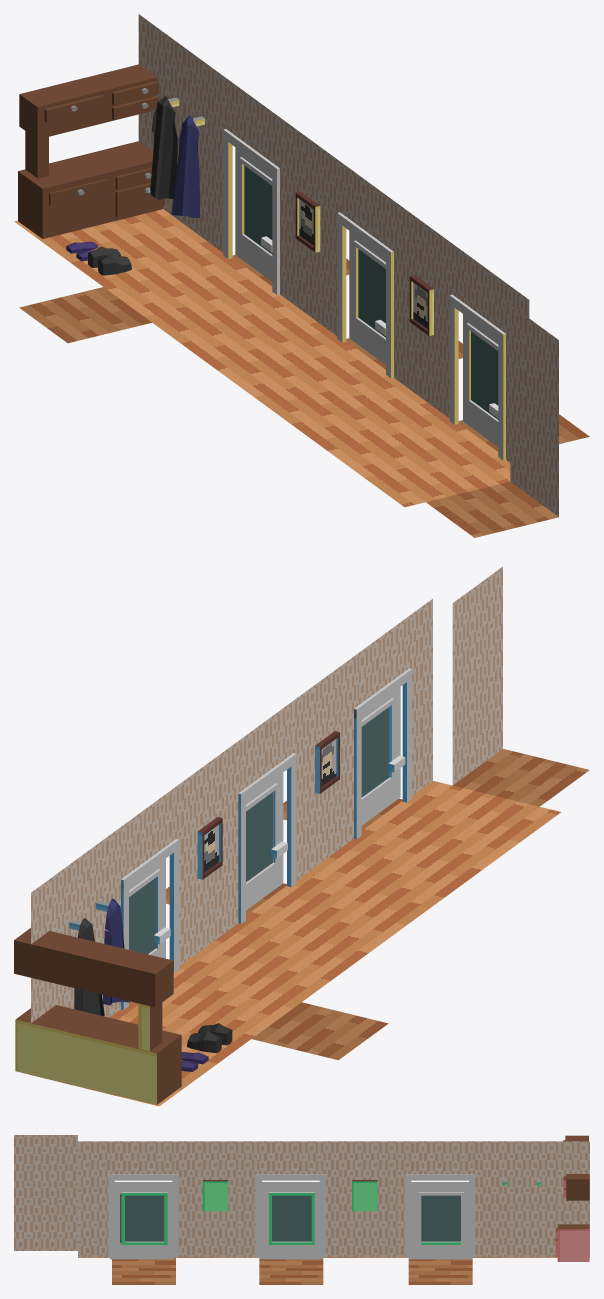
The model's file is new_corridor.gltf.
3 renders of one model, top to bottom at view 1: azimuth 30°, elevation 25°; view 2: azimuth 150°, elevation 25°; view 3: azimuth 270°, elevation 25°, orthographic. The views are drawn at different scales.
Parts seen in each view (by area): view 1: cuboid-col (×4), wall (×2), ящики, walls, door (×3), plane (×2), mesh (×2); view 2: wall (×2), cuboid-col (×3), ящики, walls, door (×3), mesh (×2), plane (×2); view 3: wall (×2), door (×3), walls, cuboid-col (×4), ящики, mesh (×2).
Boxes of the visible parts, x1,y1,x2,y2 form: cuboid-col (×4): (14, 209, 589, 537); wall (×2): (138, 14, 558, 516); ящики: (18, 64, 164, 238); walls: (223, 129, 505, 460); door (×3): (235, 147, 498, 446); plane (×2): (150, 96, 200, 218); mesh (×2): (295, 191, 433, 335); wall (×2): (31, 566, 502, 1022); cuboid-col (×3): (29, 749, 589, 1106); ящики: (14, 928, 181, 1104); walls: (121, 668, 411, 1009); door (×3): (129, 687, 400, 958); mesh (×2): (197, 731, 339, 879); plane (×2): (74, 899, 129, 1016); wall (×2): (14, 1135, 589, 1257); door (×3): (110, 1182, 472, 1259); walls: (108, 1174, 475, 1257); cuboid-col (×4): (78, 1257, 589, 1284); ящики: (555, 1135, 589, 1261); mesh (×2): (202, 1180, 377, 1211).
Size of what is drawn, in the model's own units: 0.6562 by 0.3798 by 1.69.
1 material, 1 textured.
